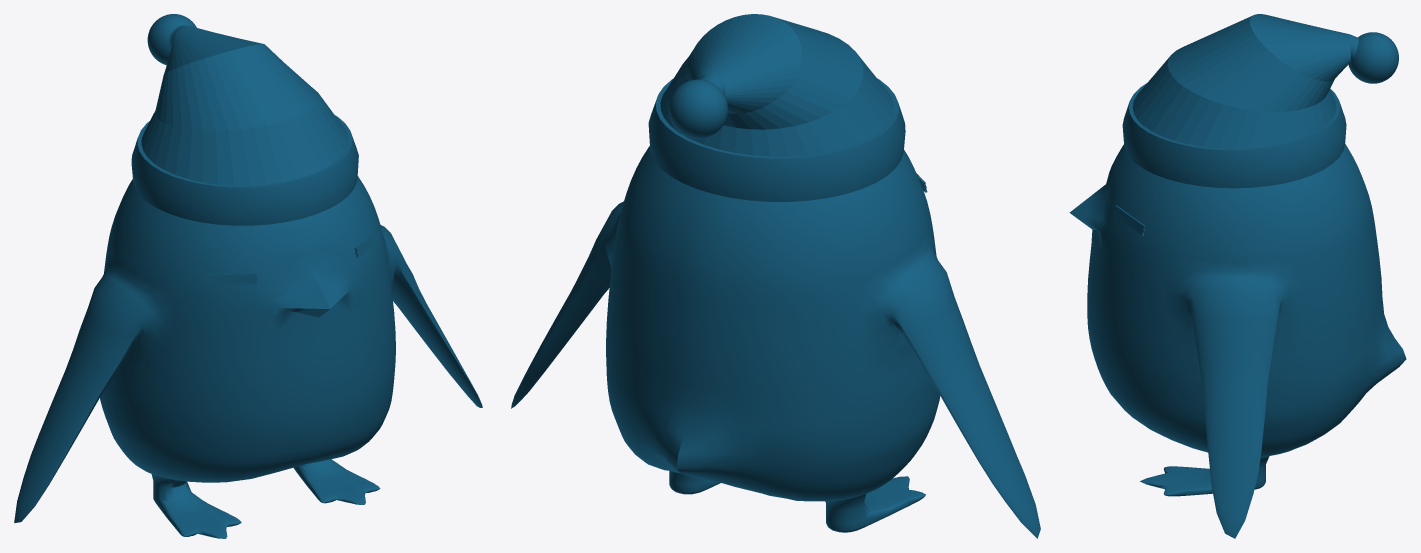
The model's file is penguin_blue_idle_23f.fbx.
The picture shows the model from 3 angles, left to right: view 1: azimuth 30°, elevation 25°; view 2: azimuth 150°, elevation 25°; view 3: azimuth 270°, elevation 25°; orthographic projection. The views are drawn at different scales.
Visible parts, largest first — view 1: ppp_23, bousi, ai; view 2: ppp_23, bousi; view 3: ppp_23, bousi.
Boxes of the visible parts, x1,y1,x2,y2 form: ppp_23: [14, 176, 482, 538]; bousi: [131, 14, 358, 225]; ai: [205, 231, 380, 285]; ppp_23: [511, 146, 1040, 538]; bousi: [648, 14, 905, 201]; ppp_23: [1069, 144, 1406, 538]; bousi: [1122, 14, 1398, 188].
Bounding box in the file's own units: 22.51 × 20.11 × 14.35.
Materials: 1 (1 with a texture image).
